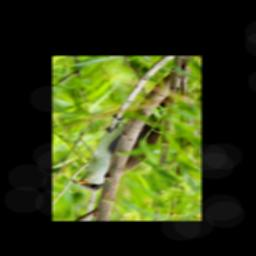Cuckoo: (68, 86, 188, 192)
